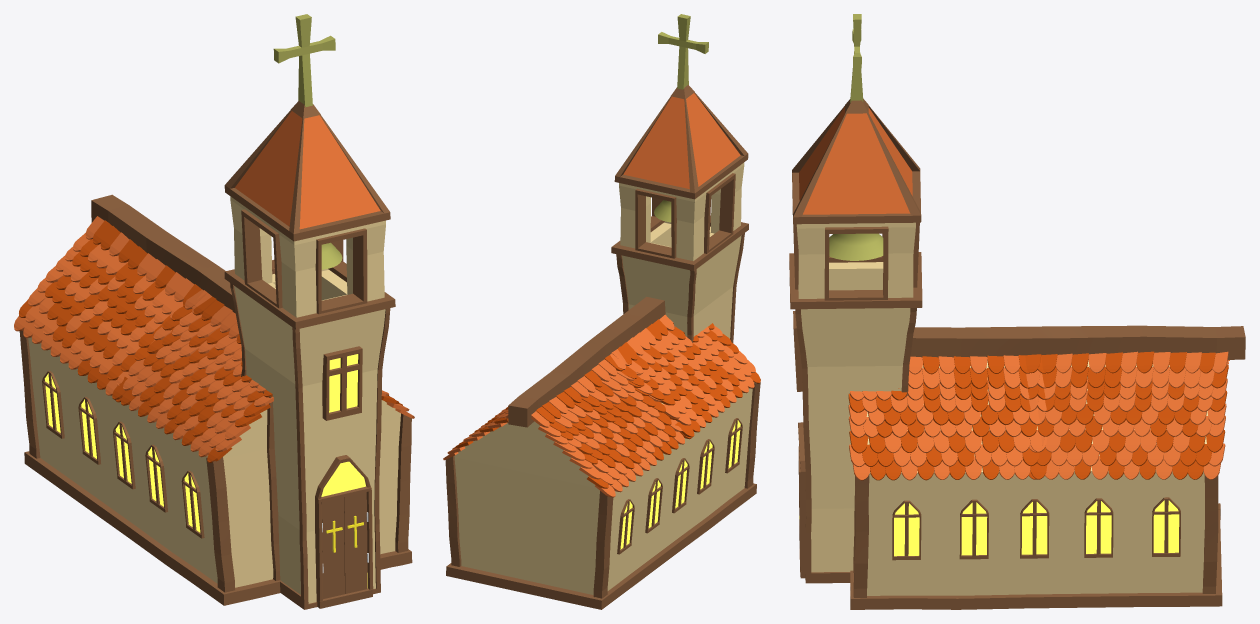
Rendered from church.glb.
The picture shows the model from 3 angles, left to right: view 1: azimuth 30°, elevation 25°; view 2: azimuth 150°, elevation 25°; view 3: azimuth 270°, elevation 25°; orthographic projection. The views are drawn at different scales.
Parts seen in each view (by area): view 1: Church.002; view 2: Church.002; view 3: Church.002.
Boxes of the visible parts, x1,y1,x2,y2 form: Church.002: [14, 14, 414, 609]; Church.002: [443, 14, 760, 609]; Church.002: [789, 14, 1245, 609].
Size of the model in its own units: 5.22 by 13.24 by 10.05.
